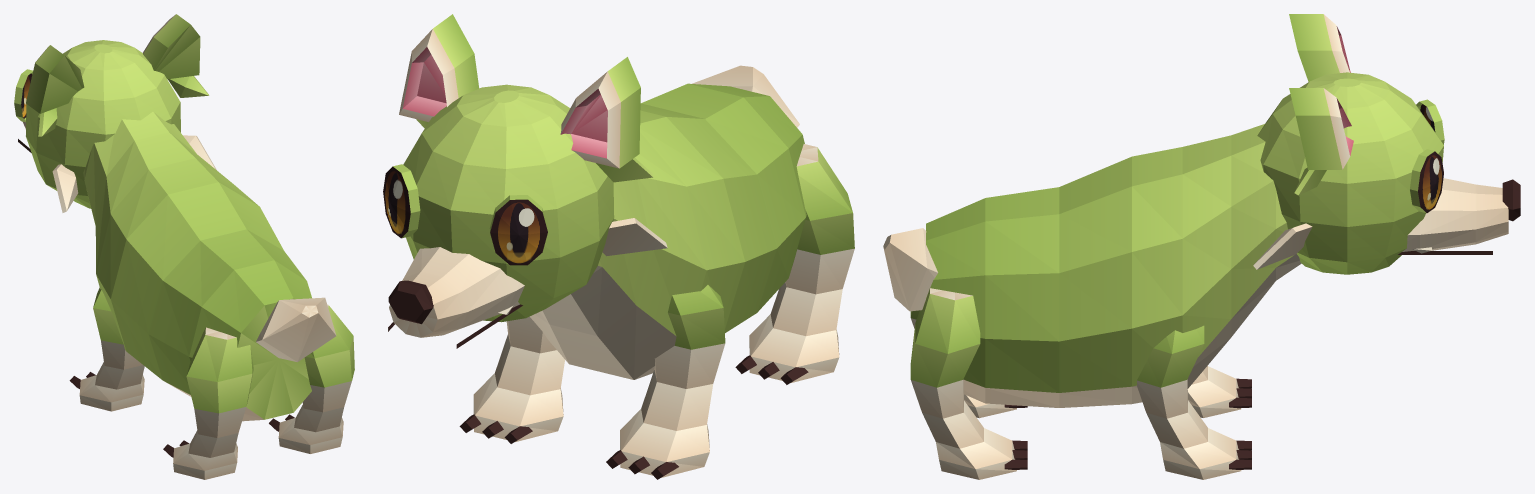
The model's file is Vinefang_S1_FacetedReview.obj.
3 views of the same model, side by side, from view 1: azimuth 30°, elevation 25°; view 2: azimuth 150°, elevation 25°; view 3: azimuth 270°, elevation 25° (orthographic). The views are drawn at different scales.
Visible parts, largest first — view 1: Body, Head, LeftBackLeg, RightBackLeg, LeftFrontLeg, Tail, RightEar, LeftEar, LeftCheekFur, LeftEye, RightEarBaseFur, LeftEarBaseFur; view 2: Body, Head, LeftBackLeg, LeftFrontLeg, RightFrontLeg, Muzzle, LeftEar, RightEar, LeftEye, RightEye, LeftCheekFur, Tail (+2 smaller); view 3: Body, Head, RightBackLeg, RightFrontLeg, Muzzle, RightEar, Tail, LeftEar, LeftFrontLeg, RightEye, RightCheekFur, LeftBackLeg.
Part boxes in pixels (x1=…): Body: x1=83, y1=111, x2=311, y2=421; Head: x1=26, y1=40, x2=180, y2=208; LeftBackLeg: x1=173, y1=327, x2=253, y2=479; RightBackLeg: x1=278, y1=304, x2=354, y2=453; LeftFrontLeg: x1=79, y1=288, x2=144, y2=411; Tail: x1=256, y1=297, x2=336, y2=361; RightEar: x1=143, y1=14, x2=200, y2=79; LeftEar: x1=26, y1=45, x2=84, y2=113; LeftCheekFur: x1=52, y1=164, x2=78, y2=212; LeftEye: x1=14, y1=69, x2=32, y2=122; RightEarBaseFur: x1=168, y1=76, x2=209, y2=97; LeftEarBaseFur: x1=38, y1=108, x2=57, y2=136; Body: x1=530, y1=83, x2=806, y2=379; Head: x1=403, y1=84, x2=614, y2=322; LeftBackLeg: x1=749, y1=144, x2=854, y2=382; LeftFrontLeg: x1=620, y1=285, x2=725, y2=477; RightFrontLeg: x1=473, y1=316, x2=564, y2=441; Muzzle: x1=389, y1=247, x2=524, y2=337; LeftEar: x1=560, y1=57, x2=640, y2=168; RightEar: x1=399, y1=14, x2=479, y2=122; LeftEye: x1=489, y1=195, x2=547, y2=265; RightEye: x1=383, y1=164, x2=420, y2=238; LeftCheekFur: x1=602, y1=218, x2=667, y2=256; Tail: x1=692, y1=65, x2=799, y2=127; Body: x1=926, y1=124, x2=1301, y2=407; Head: x1=1257, y1=72, x2=1443, y2=274; RightBackLeg: x1=910, y1=288, x2=1016, y2=479; RightFrontLeg: x1=1137, y1=325, x2=1241, y2=479; Muzzle: x1=1402, y1=178, x2=1508, y2=251; RightEar: x1=1289, y1=88, x2=1353, y2=169; Tail: x1=883, y1=228, x2=937, y2=311; LeftEar: x1=1289, y1=14, x2=1350, y2=81; LeftFrontLeg: x1=1187, y1=365, x2=1241, y2=417; RightEye: x1=1410, y1=149, x2=1443, y2=213; RightCheekFur: x1=1253, y1=223, x2=1312, y2=269; LeftBackLeg: x1=910, y1=310, x2=1016, y2=418.
Size of the model in its own units: 2.06 by 3.65 by 5.54.
1 material, 1 textured.
